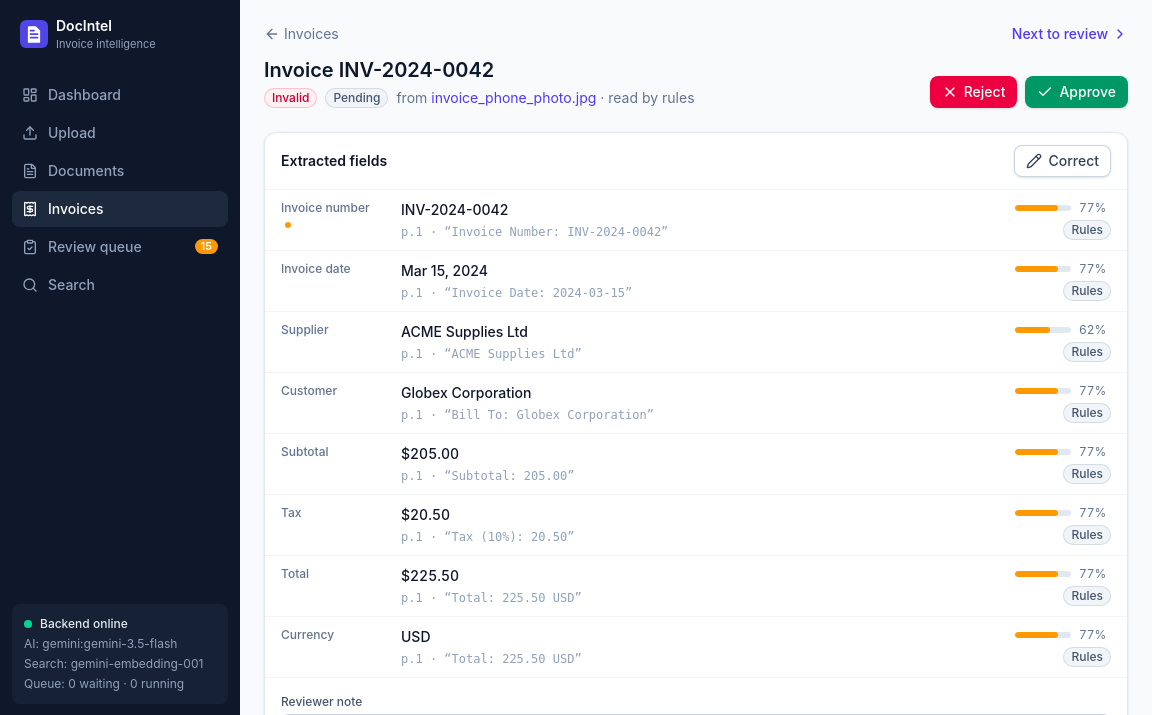
Test case: invoice review › asks before approving an invoice that still has errors, then forces it
Click the button "Approve".
click(1077, 92)  # box [1025,76,1128,108]
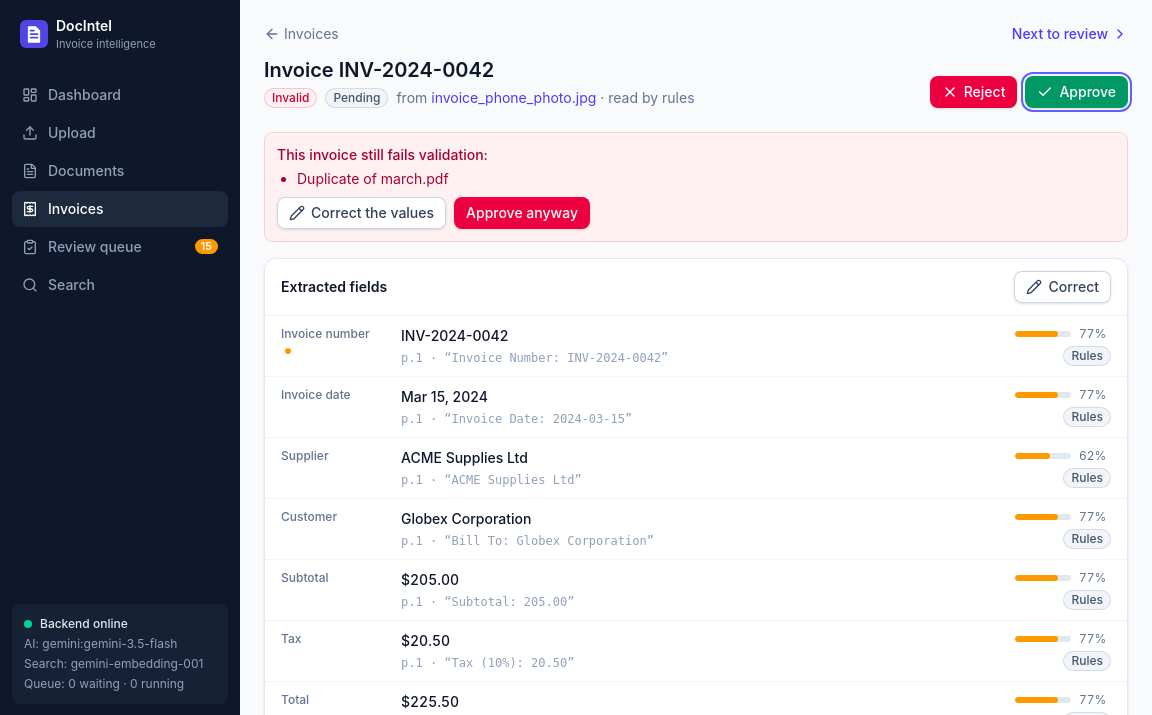
Result: the list item "Duplicate of march.pdf" is shown at [297,170,449,187]
Click the button "Approve anyway".
click(522, 213)  # box [454,197,590,229]
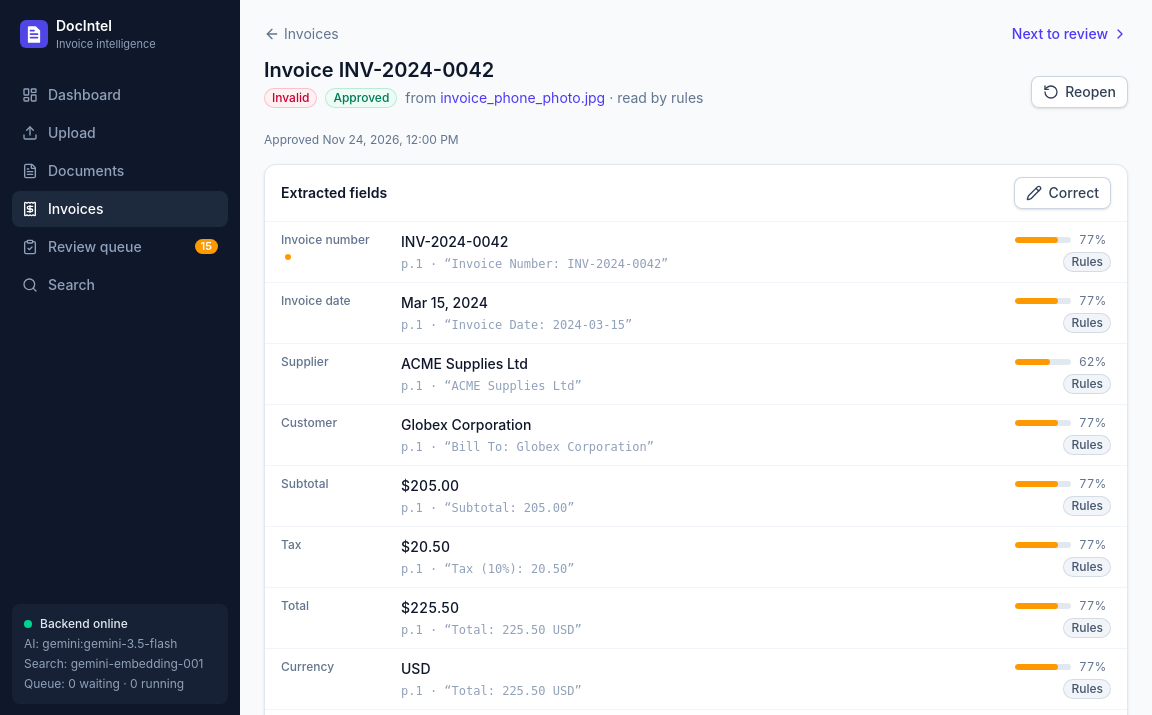
Result: the button "Reopen" is shown at [1031,76,1128,108]
